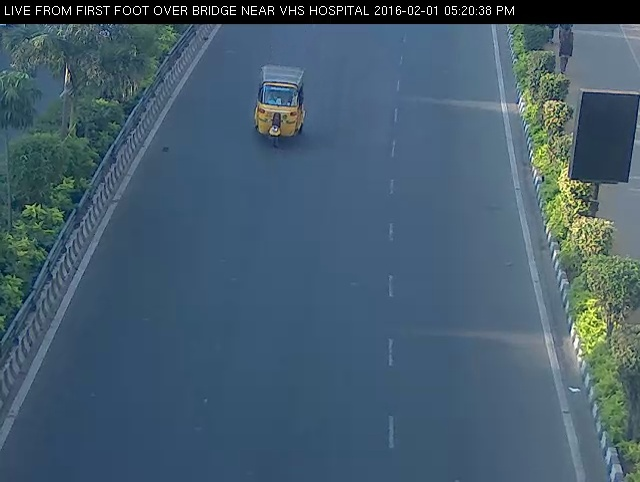Car: (245, 49, 312, 160)
